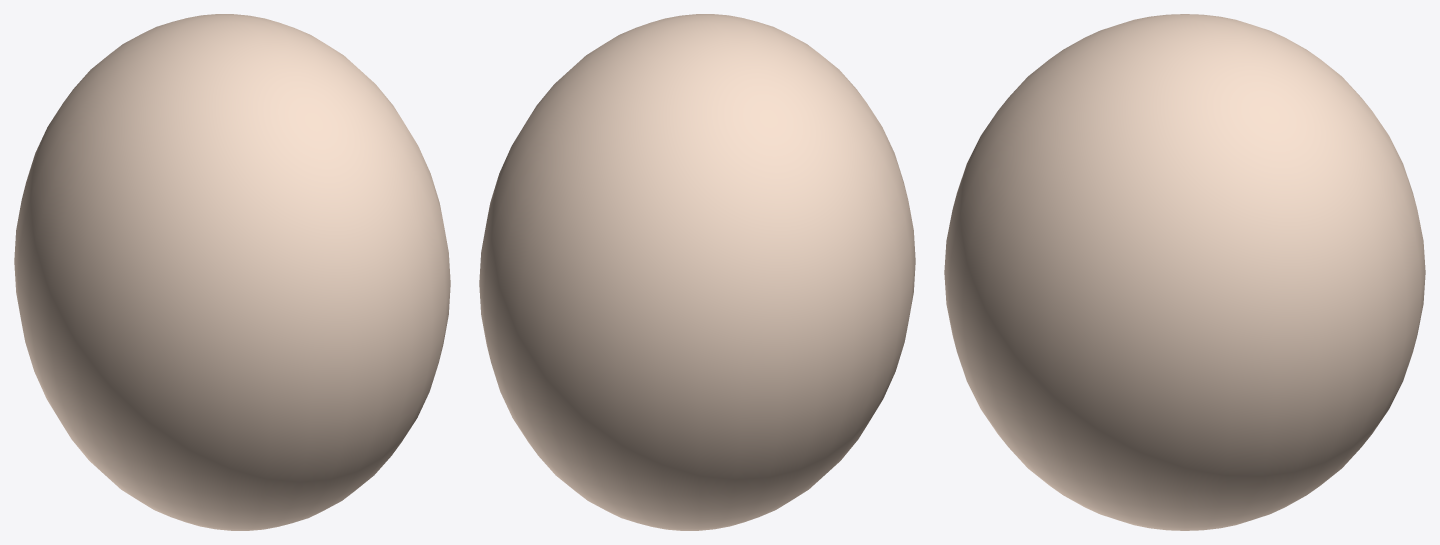
3 views of the same model, side by side, from view 1: azimuth 30°, elevation 25°; view 2: azimuth 150°, elevation 25°; view 3: azimuth 270°, elevation 25° (orthographic).
Size of the model in its own units: 1.6 by 2 by 1.8.
